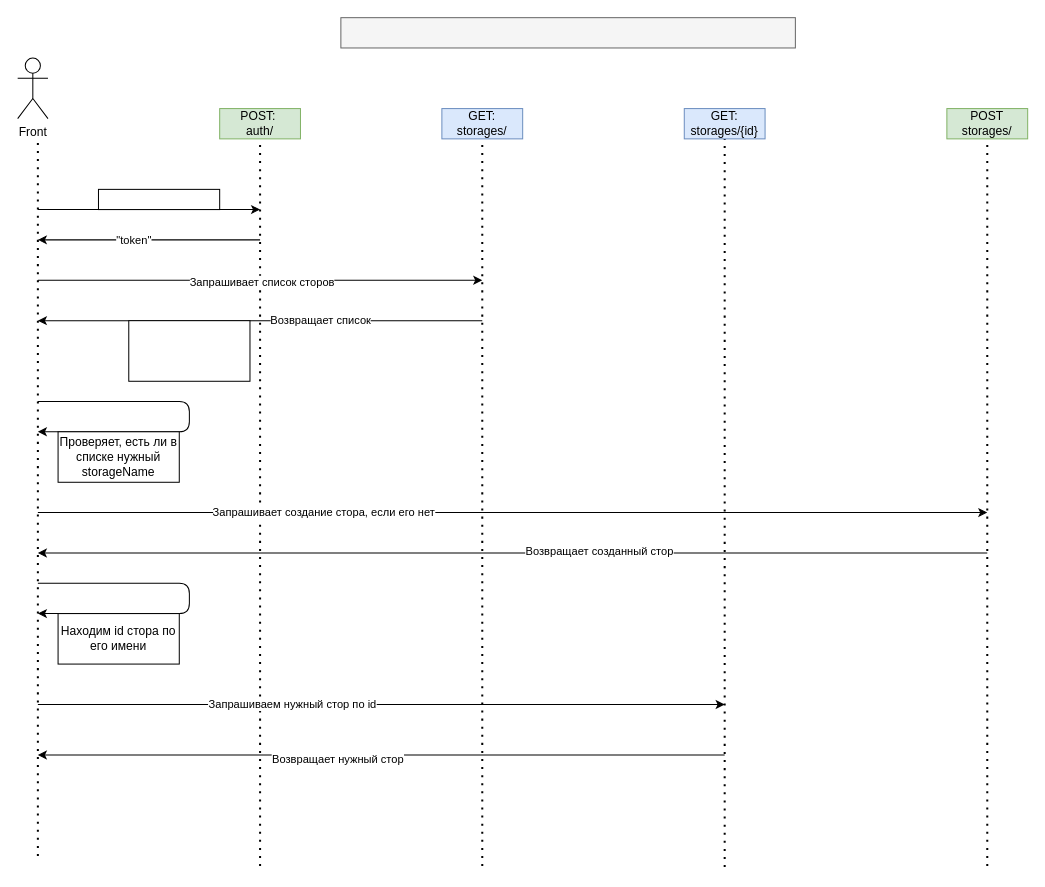
Some shapes in this 1045 by 887 pixel diagram are drawn without their labels. The shapes that lost their labels are listed below. From the top down, each one's box as (x1, y1, x2, y2) in pixels, then its label:
(340, 17, 795, 48): Инициализация
(97, 188, 220, 210): login: "user_name"
(128, 320, 250, 381): Array: storageName: string id: string
